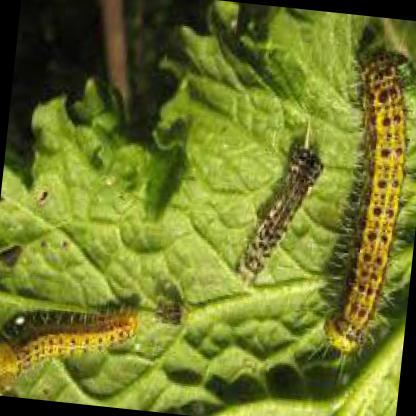pieris: (315, 53, 409, 350), (0, 301, 146, 376)
